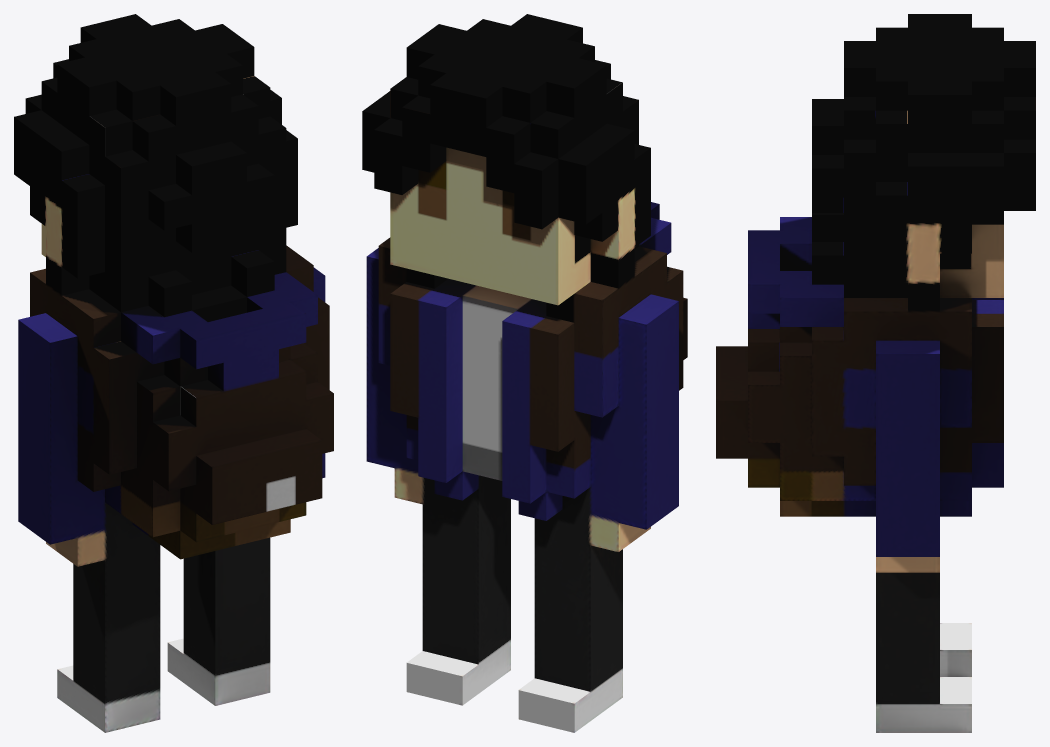
Rendered from bakestudentver2.glb.
3 views of the same model, side by side, from view 1: azimuth 30°, elevation 25°; view 2: azimuth 150°, elevation 25°; view 3: azimuth 270°, elevation 25° (orthographic).
Parts seen in each view (by area): view 1: studentver2; view 2: studentver2; view 3: studentver2.
Boxes of the visible parts, bbox=[...] form: studentver2: bbox=[14, 14, 333, 732]; studentver2: bbox=[362, 14, 687, 732]; studentver2: bbox=[716, 14, 1035, 732].
Size of what is drawn, in the model's own units: 1 by 2.2 by 1.
1 material, 1 textured.
